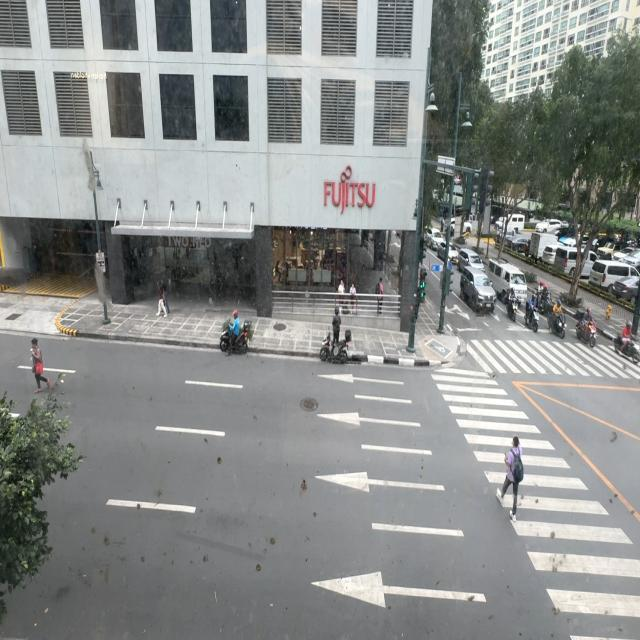jaywalking: (30, 338, 51, 393)
